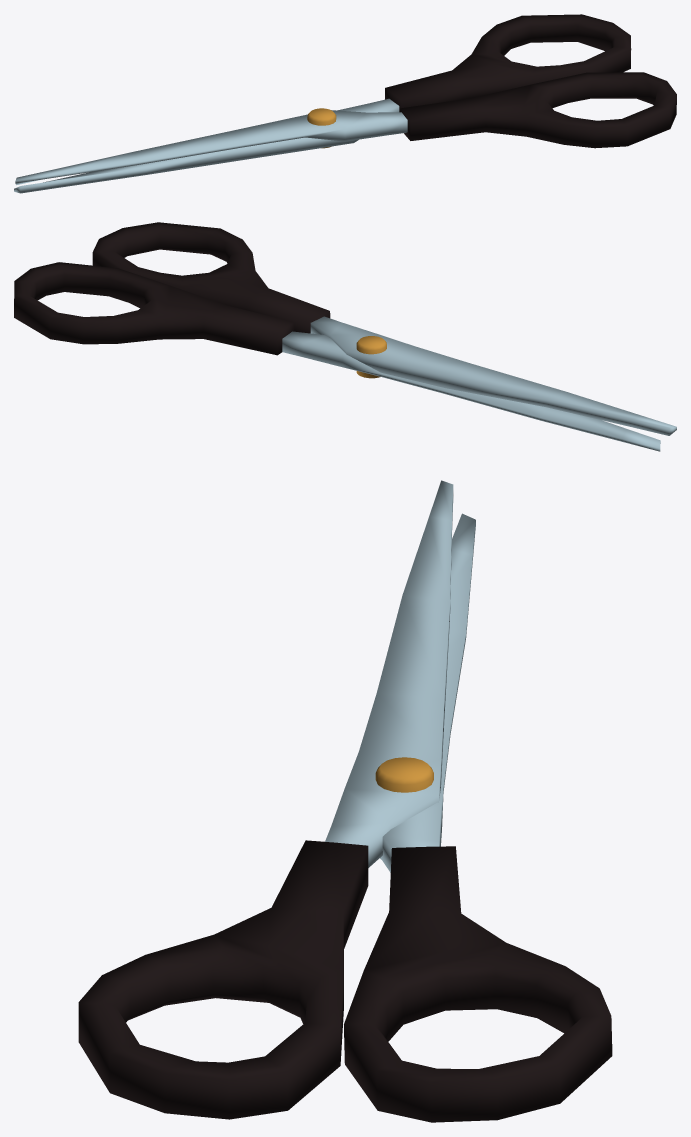
Rendered from adultscissor.fbx.
3 renders of one model, top to bottom at view 1: azimuth 30°, elevation 25°; view 2: azimuth 150°, elevation 25°; view 3: azimuth 270°, elevation 25°, orthographic. The views are drawn at different scales.
Parts seen in each view (by area): view 1: Scissor_R, Scissor_L, Scissor_pin; view 2: Scissor_L, Scissor_R, Scissor_pin; view 3: Scissor_R, Scissor_L, Scissor_pin.
Part boxes in pixels (x1,y1,x2,y2): Scissor_R: (15, 72, 676, 185); Scissor_L: (14, 14, 631, 193); Scissor_pin: (307, 108, 336, 148); Scissor_L: (14, 262, 660, 451); Scissor_R: (92, 222, 676, 435); Scissor_pin: (356, 336, 386, 378); Scissor_R: (78, 480, 453, 1119); Scissor_L: (344, 513, 612, 1122); Scissor_pin: (375, 757, 433, 792).
Bounding box in the file's own units: 123 × 5.69 × 46.44.
